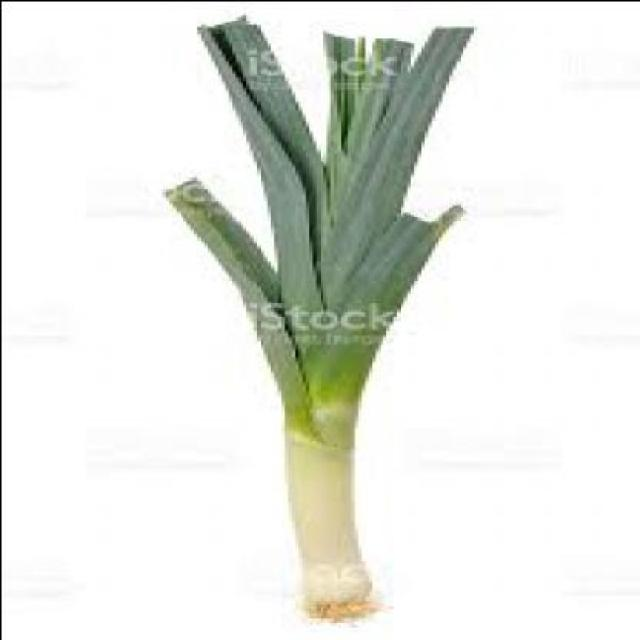BIODEGRADABLE: (154, 10, 469, 612)
